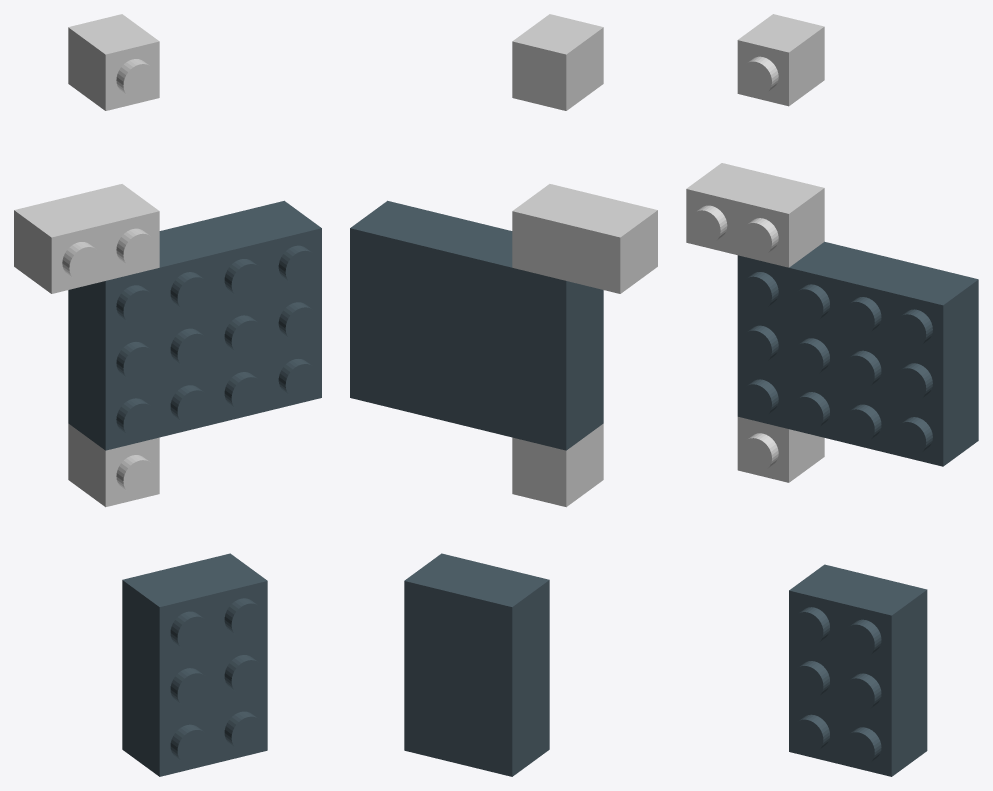
The model's file is current.glb.
3 renders of one model, left to right at view 1: azimuth 30°, elevation 25°; view 2: azimuth 150°, elevation 25°; view 3: azimuth 330°, elevation 25°, orthographic. The views are drawn at different scales.
Parts seen in each view (by area): view 1: world; view 2: world; view 3: world.
Part boxes in pixels (x1,y1,x2,y2): world: (14,14,321,776); world: (350,14,657,776); world: (686,14,978,776).
Size of the model in its own units: 40 by 104 by 11.4.
